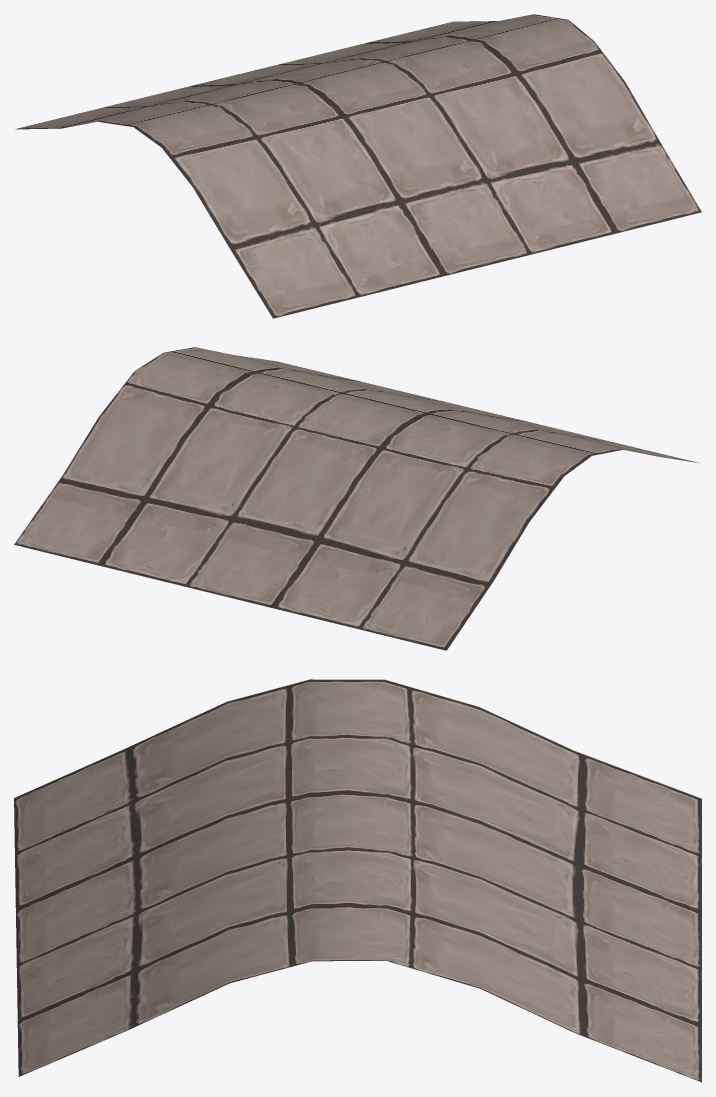
Rendered from Ponte.fbx.
3 views of the same model, one above another, from view 1: azimuth 30°, elevation 25°; view 2: azimuth 150°, elevation 25°; view 3: azimuth 270°, elevation 25° (orthographic). The views are drawn at different scales.
Parts seen in each view (by area): view 1: pPlane4; view 2: pPlane4; view 3: pPlane4.
Boxes of the visible parts, left/top/right/bottom form: pPlane4: left=15, top=14, right=701, bottom=318; pPlane4: left=14, top=347, right=699, bottom=650; pPlane4: left=14, top=679, right=701, bottom=1082.
Size of the model in its own units: 14.88 by 2.93 by 15.21.
